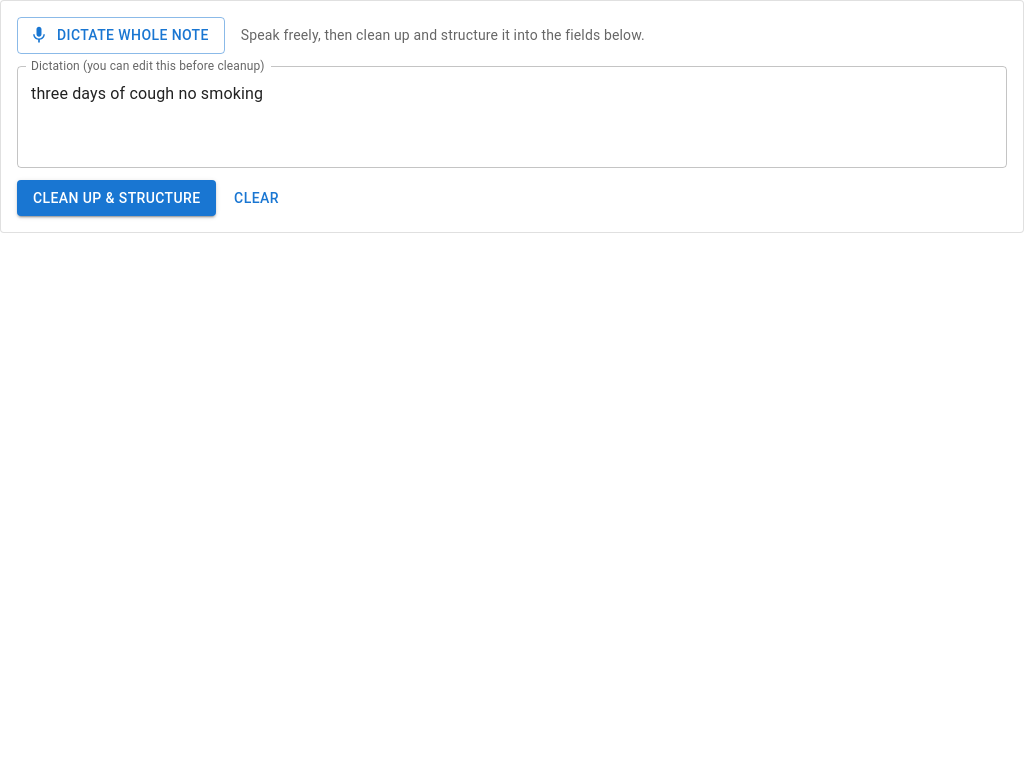
Test: DictateNoteBar › dictate, clean up, review, accept some, apply
Expected: the button "Dictate whole note" is shown, [17,17,225,54]
Click the button "Clean up & structure": (117, 198) [17,180,216,216]
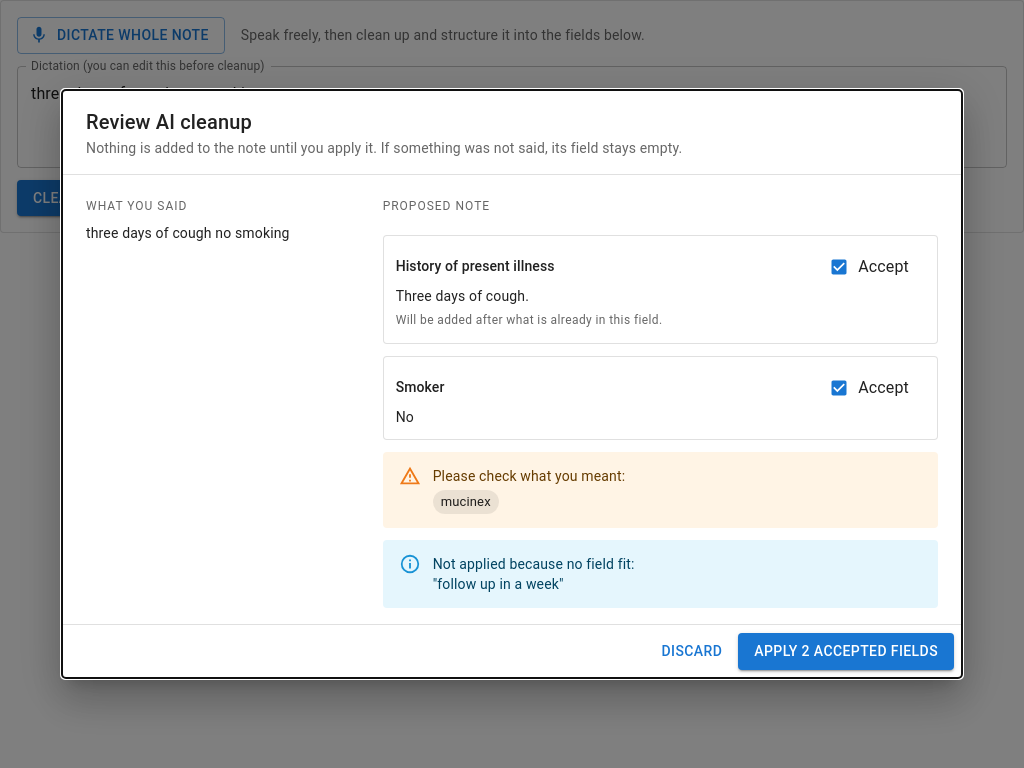
Now the text "Three days of cough." is shown, box [396,288,529,304]
Now the text "No" is shown, box [396,409,414,425]
Now the text "mucinex" is shown, box [441,494,491,509]
Click the checkbox labelled "Accept" in the row of "Smoker": (869, 388) [829,378,909,398]
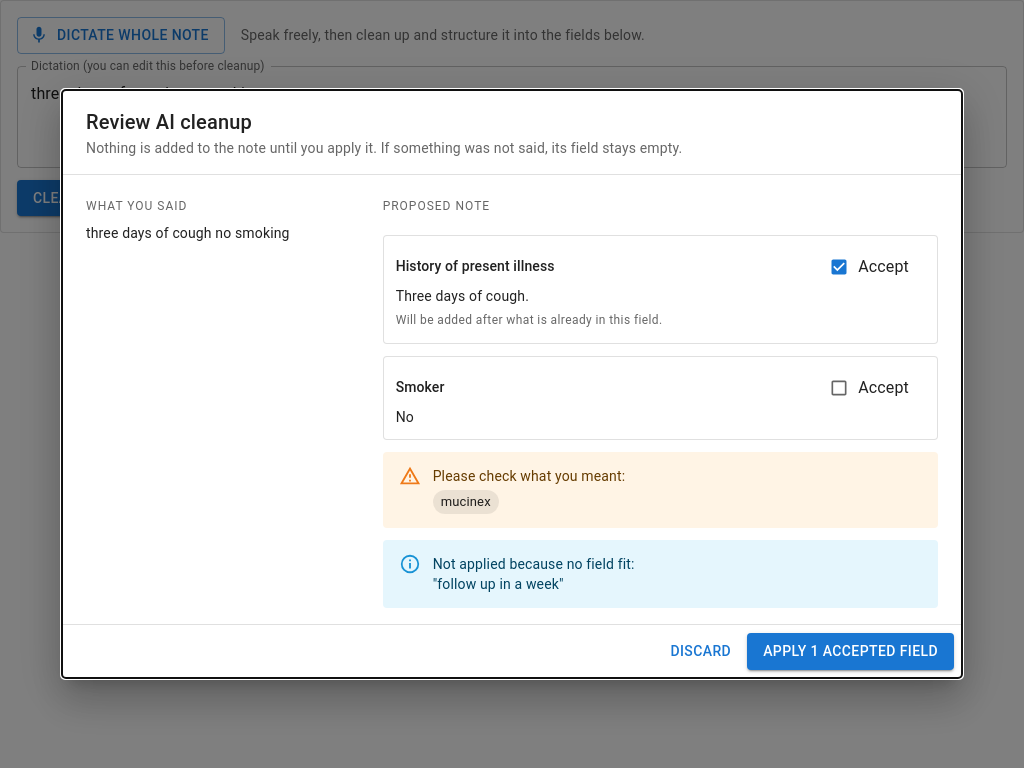
Click the button "Apply 1 accepted field": (851, 651) [747,633,954,670]
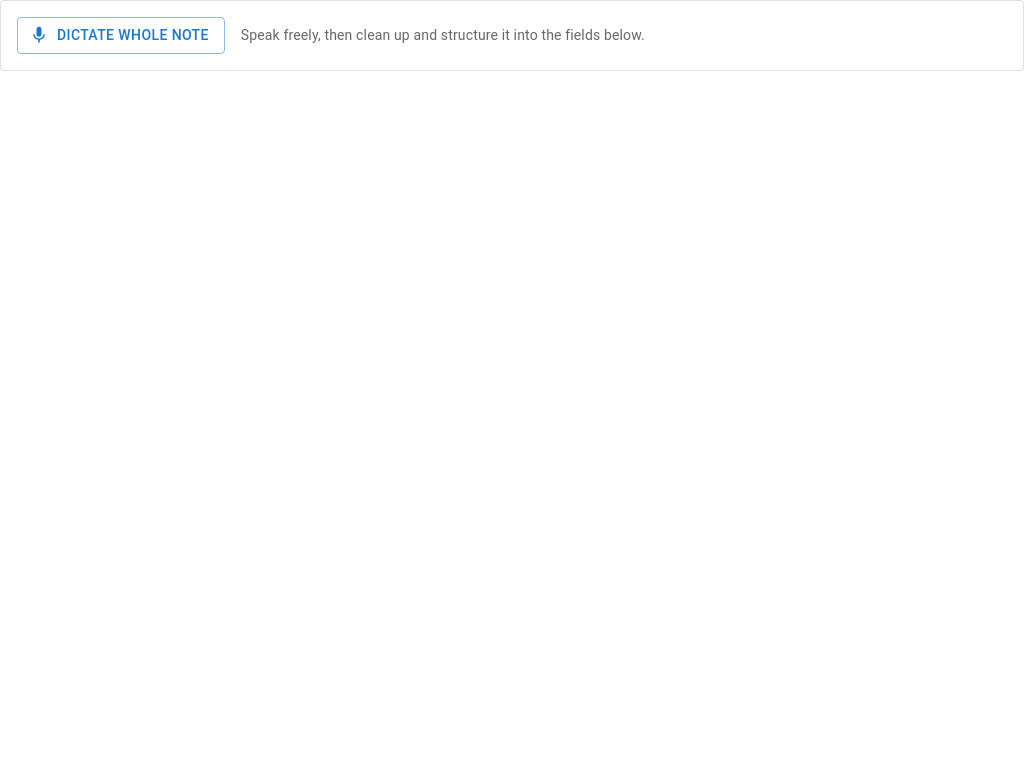
Now the dialog is gone
